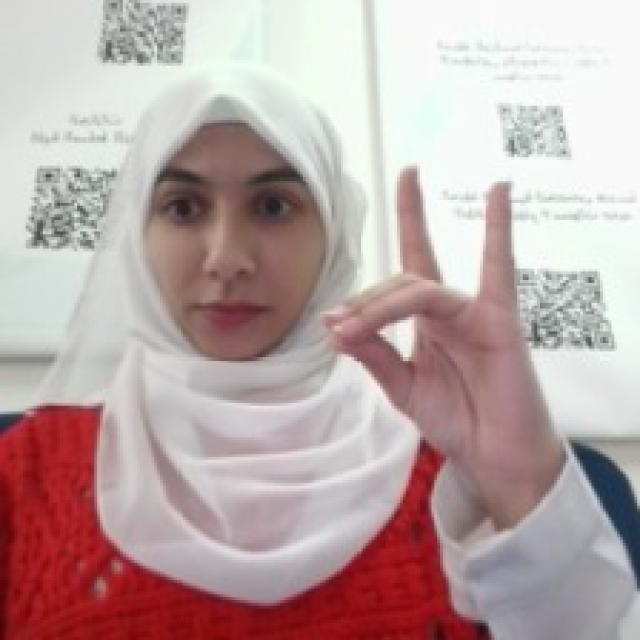Dog: (320, 160, 546, 466)
